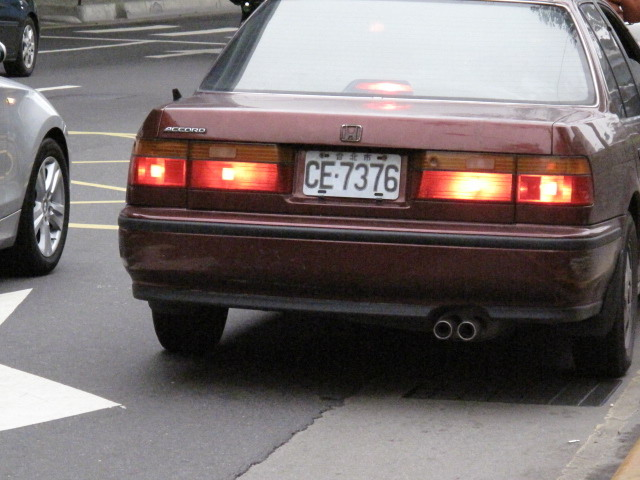plate: (302, 147, 403, 202)
